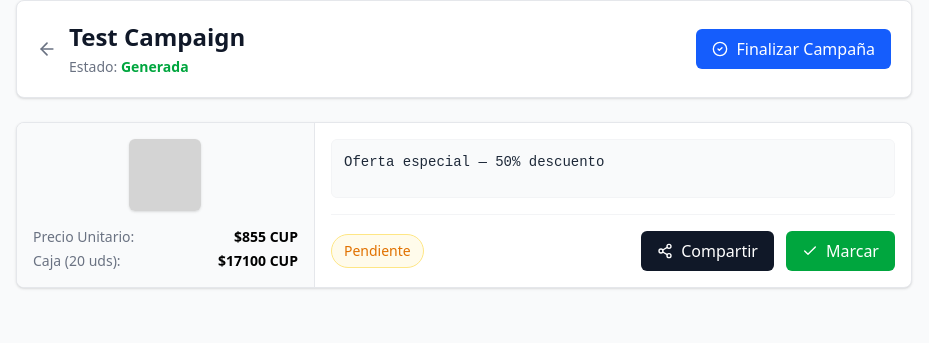
CampaignShare sent-status rule › shows a success notice after a successful share
Expected: the heading "Test Campaign" is shown, [69,21,245,53]
Click the button "Compartir". click: [708, 251]
box: [641,231,774,271]
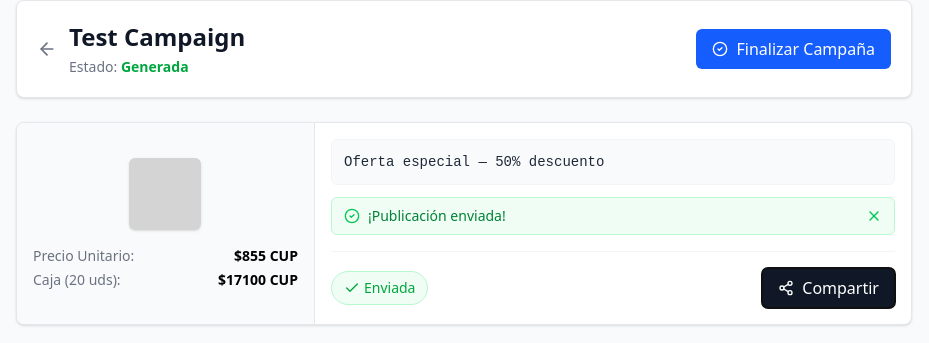
Now the text "¡Publicación enviada!" is shown, box [368,206,506,225]
